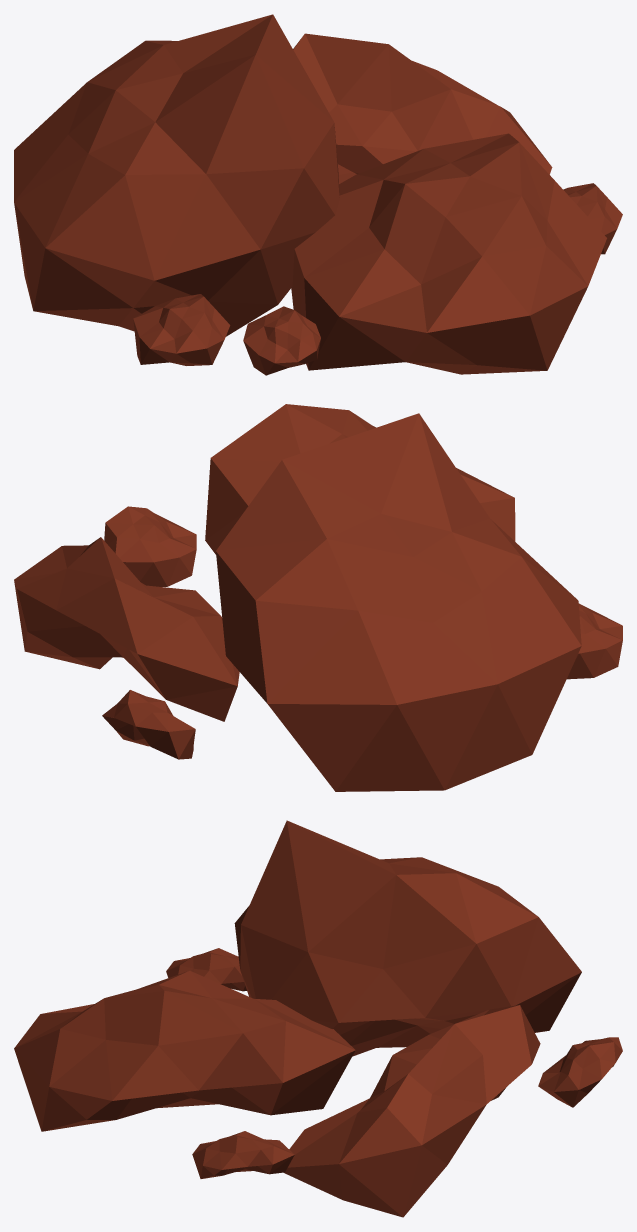
File: node_copper.glb
3 renders of one model, top to bottom at view 1: azimuth 30°, elevation 25°; view 2: azimuth 150°, elevation 25°; view 3: azimuth 270°, elevation 25°, orthographic. The views are drawn at different scales.
Parts seen in each view (by area): view 1: Icosphere, Icosphere.001, Icosphere.006, Icosphere.005, Icosphere.002, Icosphere.003; view 2: Icosphere, Icosphere.006, Icosphere.001, Icosphere.003, Icosphere.004, Icosphere.005; view 3: Icosphere, Icosphere.001, Icosphere.006, Icosphere.003, Icosphere.004, Icosphere.005.
Boxes of the visible parts, left/top/right/bottom form: Icosphere: left=14, top=14, right=339, bottom=336; Icosphere.001: left=291, top=133, right=606, bottom=374; Icosphere.006: left=293, top=33, right=552, bottom=183; Icosphere.005: left=133, top=294, right=230, bottom=365; Icosphere.002: left=243, top=306, right=320, bottom=375; Icosphere.003: left=563, top=183, right=622, bottom=254; Icosphere: left=216, top=413, right=581, bottom=791; Icosphere.006: left=14, top=537, right=239, bottom=721; Icosphere.001: left=205, top=404, right=515, bottom=554; Icosphere.003: left=104, top=506, right=196, bottom=586; Icosphere.004: left=102, top=690, right=195, bottom=759; Icosphere.005: left=567, top=603, right=622, bottom=679; Icosphere: left=234, top=820, right=581, bottom=1056; Icosphere.001: left=14, top=970, right=355, bottom=1131; Icosphere.006: left=284, top=1005, right=540, bottom=1217; Icosphere.003: left=192, top=1131, right=294, bottom=1178; Icosphere.004: left=538, top=1037, right=622, bottom=1107; Icosphere.005: left=166, top=948, right=246, bottom=991.
Size of the model in its own units: 1.11 by 0.6046 by 1.22.
